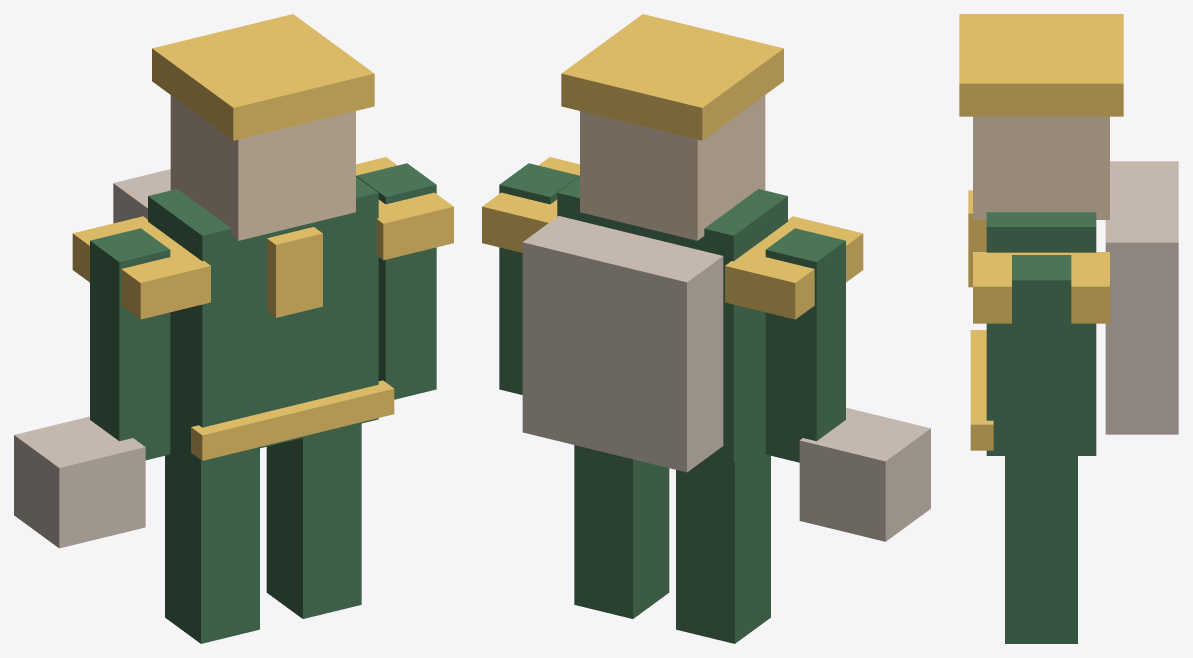
The model's file is 07_auren_signalborn_herald_near_transformation.glb.
3 renders of one model, left to right at view 1: azimuth 30°, elevation 25°; view 2: azimuth 150°, elevation 25°; view 3: azimuth 270°, elevation 25°, orthographic.
Visible parts, largest first — view 1: Auren Signalborn, Herald near Transformation; view 2: Auren Signalborn, Herald near Transformation; view 3: Auren Signalborn, Herald near Transformation.
Boxes of the visible parts, x1,y1,x2,y2 form: Auren Signalborn, Herald near Transformation: [14, 14, 453, 643]; Auren Signalborn, Herald near Transformation: [482, 14, 930, 643]; Auren Signalborn, Herald near Transformation: [959, 14, 1178, 643].
Bounding box in the file's own units: 1.07 × 1.45 × 0.5168.
